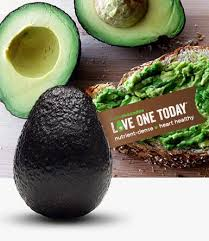aguacate: (10, 81, 117, 219)
